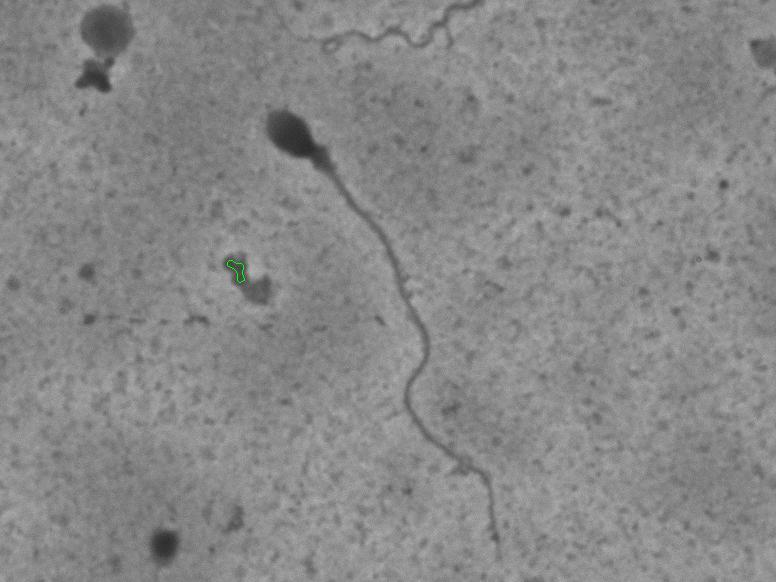Normal: (246, 94, 519, 567)
